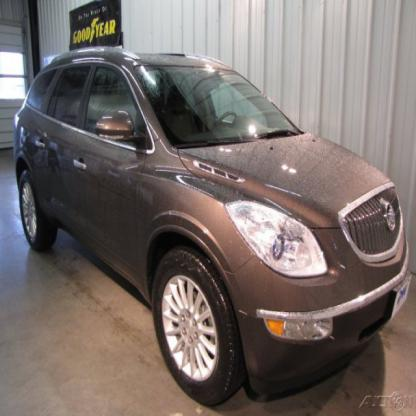Vehicle: (12, 44, 410, 397)
